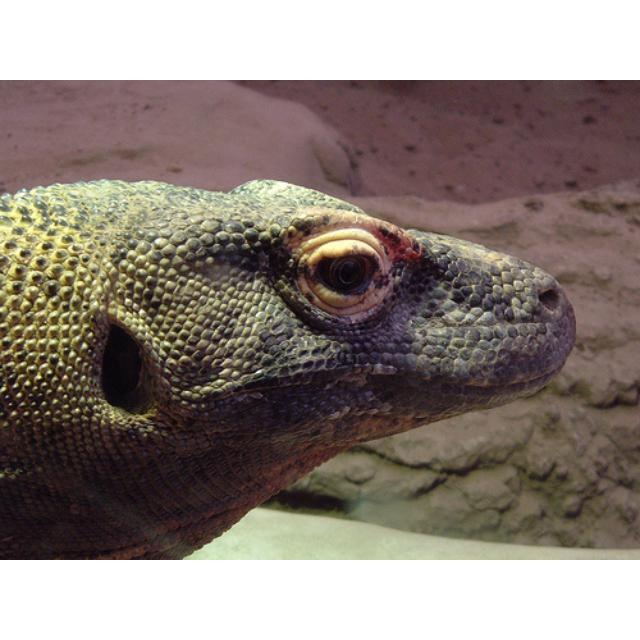KomodoDragon: (0, 175, 574, 556)
